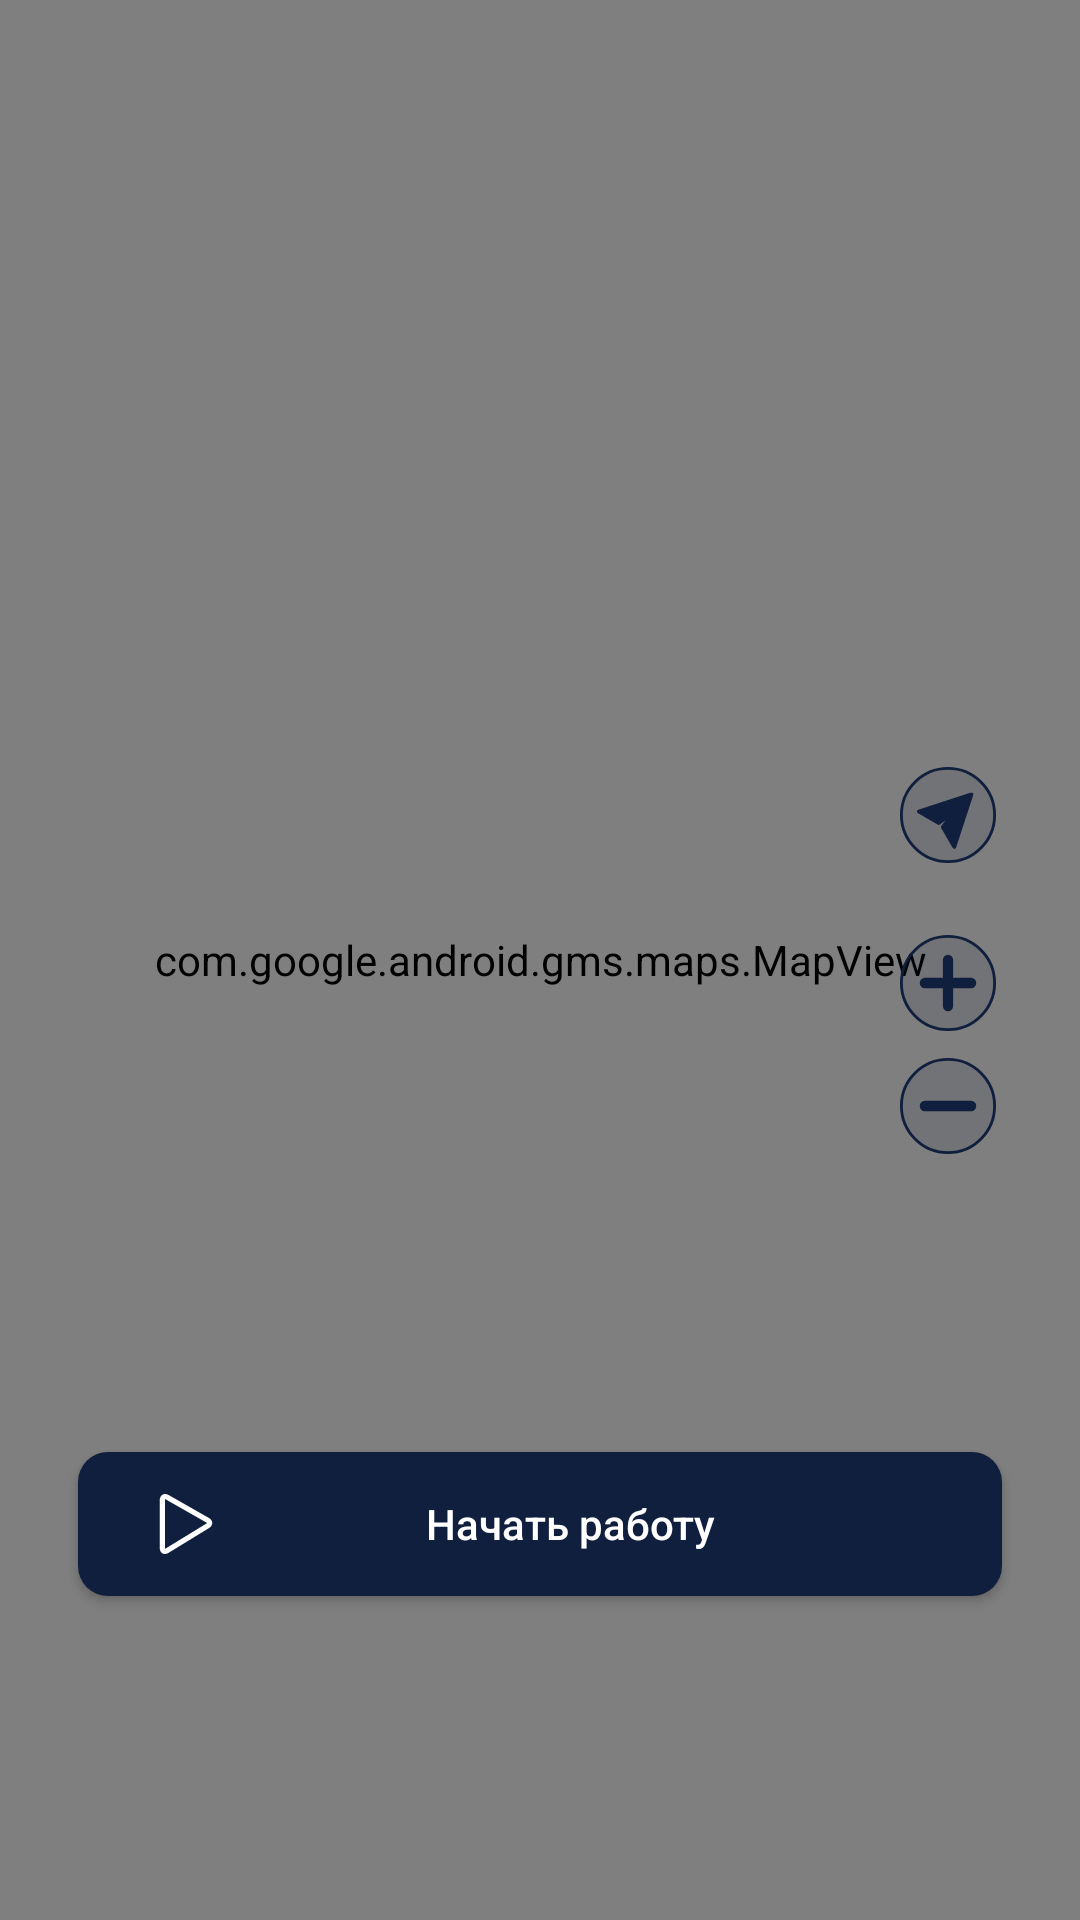

Icons on this 1080*1920 Android screen, each with the point to tap as (x=x, y=y):
location zoom in: (x=946, y=983)
location zoom out: (x=948, y=1106)
